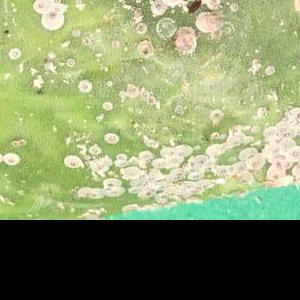Femea: (31, 0, 52, 12), (65, 156, 81, 167), (7, 46, 20, 58), (79, 80, 93, 90), (4, 152, 15, 163)
